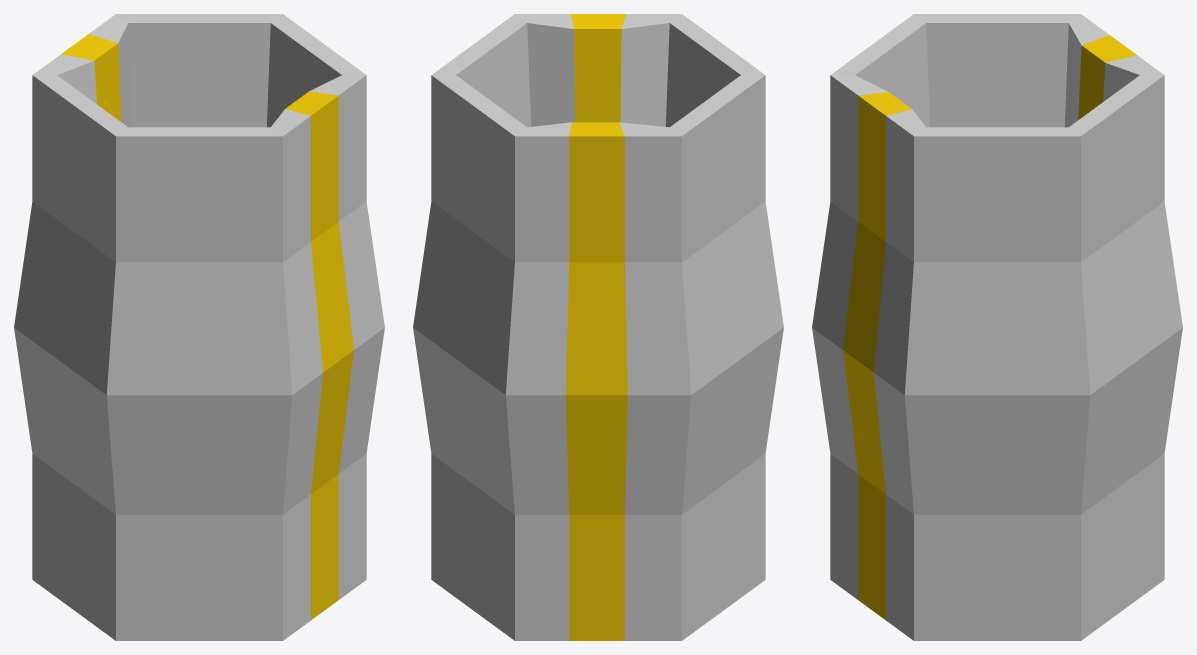
The model's file is coridor.fbx.
3 views of the same model, side by side, from view 1: azimuth 30°, elevation 25°; view 2: azimuth 150°, elevation 25°; view 3: azimuth 270°, elevation 25° (orthographic).
Visible parts, largest first — view 1: Cylinder; view 2: Cylinder; view 3: Cylinder.
Part boxes in pixels (box(x1,y1,x2,y2)): Cylinder: box(14, 14, 384, 640); Cylinder: box(413, 14, 783, 640); Cylinder: box(812, 14, 1182, 640).
Size of the model in its own units: 192 by 334 by 222.
